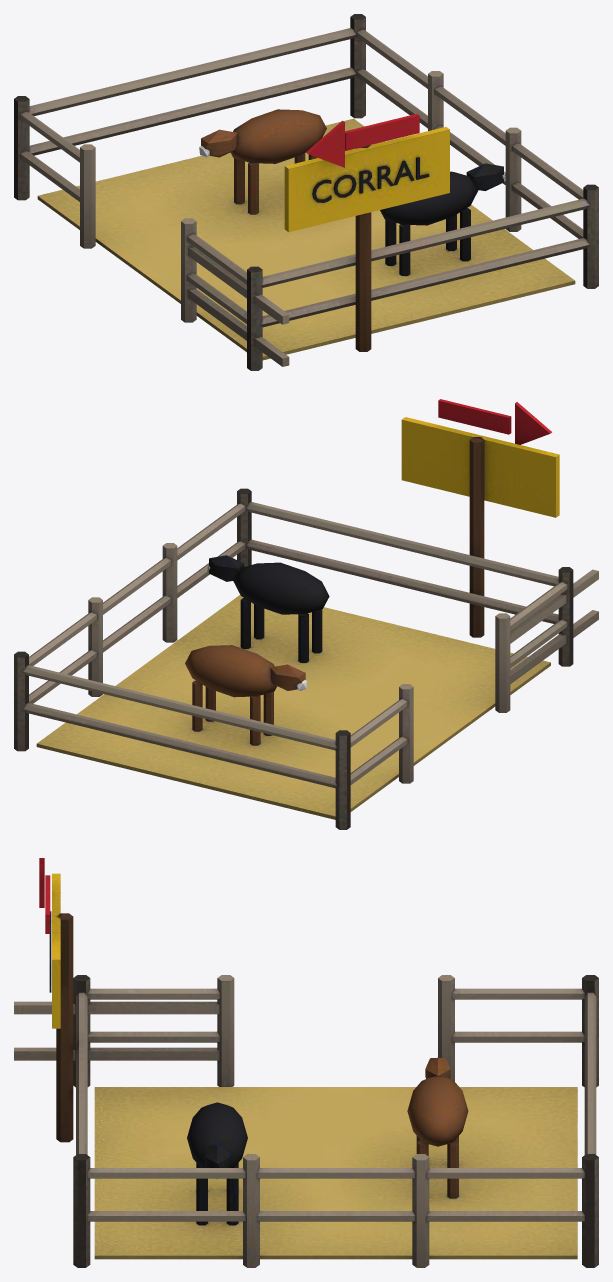
Rendered from corral_der.glb.
3 renders of one model, top to bottom at view 1: azimuth 30°, elevation 25°; view 2: azimuth 150°, elevation 25°; view 3: azimuth 270°, elevation 25°, orthographic. The views are drawn at different scales.
Parts seen in each view (by area): view 1: corral_der; view 2: corral_der; view 3: corral_der.
Part boxes in pixels (bbox=[...]): corral_der: bbox=[14, 14, 598, 370]; corral_der: bbox=[14, 399, 598, 829]; corral_der: bbox=[14, 858, 598, 1267].
Size of the model in its own units: 5.17 by 3.45 by 6.9.
Materials: 1 (1 with a texture image).
